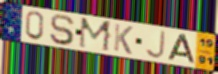0: (25, 11, 45, 42)
A: (167, 33, 197, 65)
J: (144, 29, 167, 60)
K: (112, 23, 134, 56)
M: (77, 16, 114, 53)
S: (48, 14, 76, 47)
